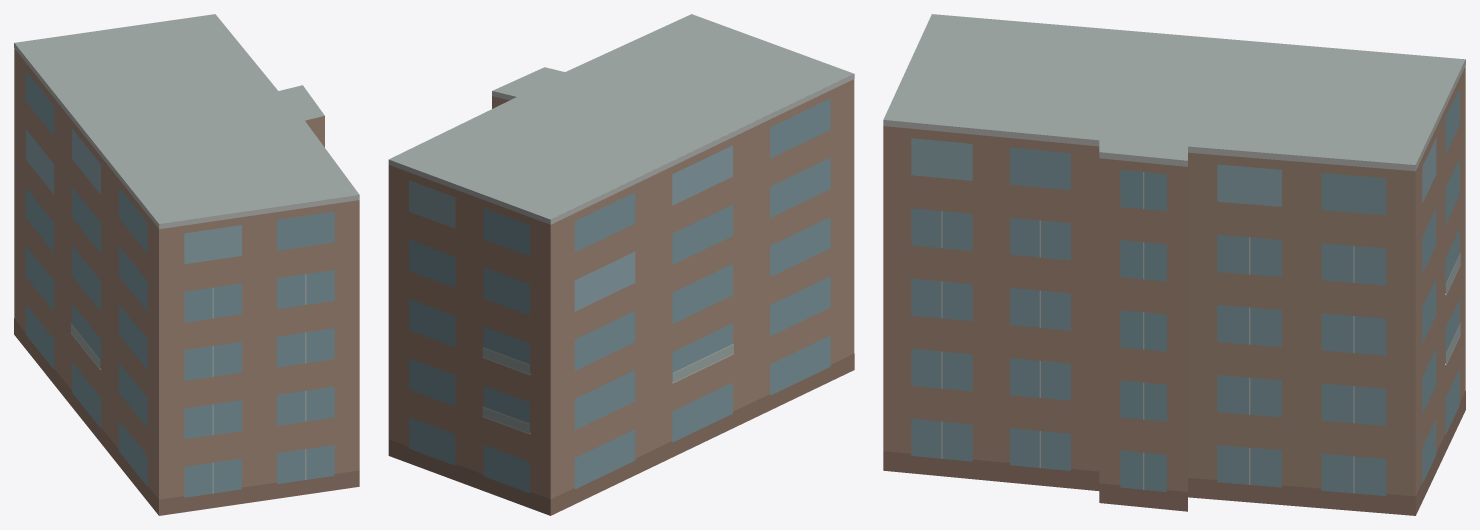
Rendered from survey-upis-32664227.glb.
The picture shows the model from 3 angles, left to right: view 1: azimuth 30°, elevation 25°; view 2: azimuth 150°, elevation 25°; view 3: azimuth 270°, elevation 25°; orthographic projection. The views are drawn at different scales.
Parts seen in each view (by area): view 1: survey-upis-32664227.tmp; view 2: survey-upis-32664227.tmp; view 3: survey-upis-32664227.tmp.
Part boxes in pixels (left/top/right/bottom): survey-upis-32664227.tmp: left=14, top=14, right=359, bottom=515; survey-upis-32664227.tmp: left=388, top=14, right=854, bottom=515; survey-upis-32664227.tmp: left=883, top=14, right=1465, bottom=515.
Size of the model in its own units: 12.85 by 13.9 by 20.93.
